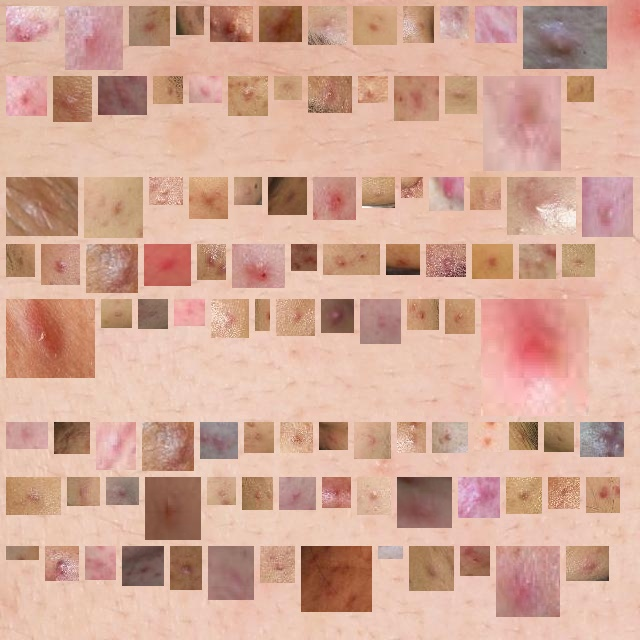papule: (489, 307, 581, 408), (491, 84, 553, 163), (14, 307, 87, 370), (531, 14, 599, 61), (14, 177, 70, 228), (309, 554, 364, 604), (504, 554, 552, 609), (515, 185, 568, 227), (73, 14, 115, 62), (92, 185, 135, 230), (153, 485, 193, 532), (590, 185, 625, 229), (405, 485, 444, 520), (94, 252, 130, 285), (150, 430, 186, 463), (216, 554, 246, 592), (14, 14, 51, 42), (240, 252, 277, 280), (14, 485, 53, 507), (402, 84, 431, 113), (417, 554, 446, 583), (152, 252, 183, 278), (104, 430, 128, 462), (106, 84, 139, 107), (321, 185, 348, 212), (368, 307, 393, 336), (61, 84, 84, 114), (466, 485, 492, 510), (361, 14, 389, 37), (130, 554, 156, 578), (331, 252, 372, 267), (137, 14, 162, 38), (14, 84, 39, 108), (197, 185, 220, 211), (316, 84, 344, 105), (236, 84, 260, 108), (49, 252, 72, 277), (483, 14, 509, 35), (218, 14, 245, 34), (267, 14, 294, 34), (588, 430, 616, 449), (316, 14, 339, 37), (574, 554, 601, 573), (276, 185, 299, 207), (219, 307, 241, 330), (14, 422, 40, 441), (284, 307, 307, 328), (480, 252, 505, 271), (208, 430, 230, 451), (178, 554, 194, 582), (362, 430, 383, 451), (514, 485, 534, 506), (434, 252, 458, 269), (527, 252, 548, 271), (268, 554, 287, 575), (365, 485, 383, 507), (594, 485, 612, 505), (287, 485, 308, 502), (453, 84, 469, 106), (437, 185, 456, 203), (53, 554, 71, 573), (62, 430, 82, 446), (411, 14, 426, 35), (329, 307, 346, 325), (440, 430, 460, 445), (570, 252, 587, 269), (394, 252, 412, 267), (93, 554, 108, 572), (453, 307, 467, 326), (205, 252, 218, 272), (556, 485, 572, 501), (370, 185, 387, 200), (478, 185, 493, 202), (288, 430, 305, 445), (250, 485, 265, 502), (415, 307, 431, 322), (448, 14, 461, 31), (14, 252, 27, 269), (75, 485, 92, 498), (157, 185, 175, 197), (252, 430, 266, 445), (114, 485, 131, 497), (146, 307, 160, 321), (552, 430, 566, 444), (468, 554, 482, 568), (109, 307, 124, 320), (405, 430, 418, 445), (330, 485, 343, 500), (197, 84, 214, 95), (482, 430, 495, 444), (161, 84, 175, 96), (182, 307, 197, 318), (184, 14, 196, 27), (327, 430, 340, 442), (517, 430, 530, 442), (215, 485, 228, 497), (366, 84, 380, 95), (242, 185, 254, 197), (575, 84, 586, 94), (299, 252, 309, 263), (282, 84, 294, 92), (409, 185, 415, 190)
